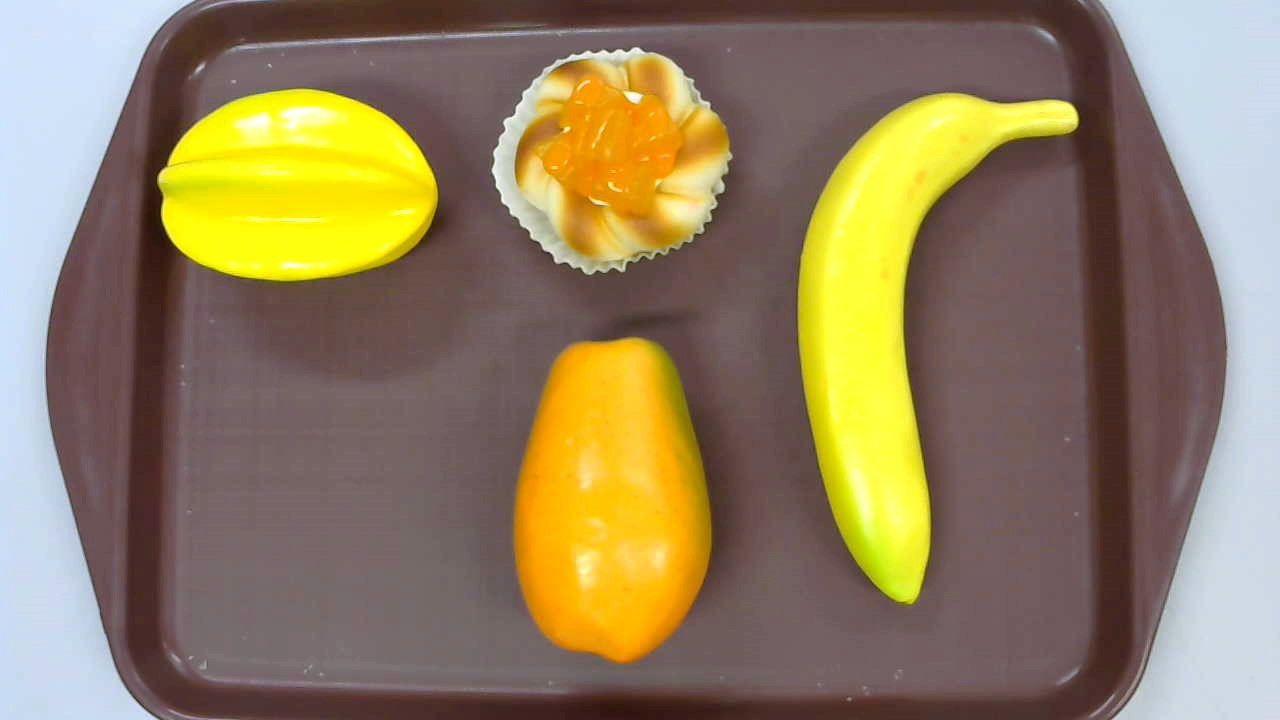banana: (797, 92, 1078, 603)
mango tart: (491, 46, 735, 275)
papya: (513, 336, 714, 662)
star fruit: (157, 88, 439, 282)
